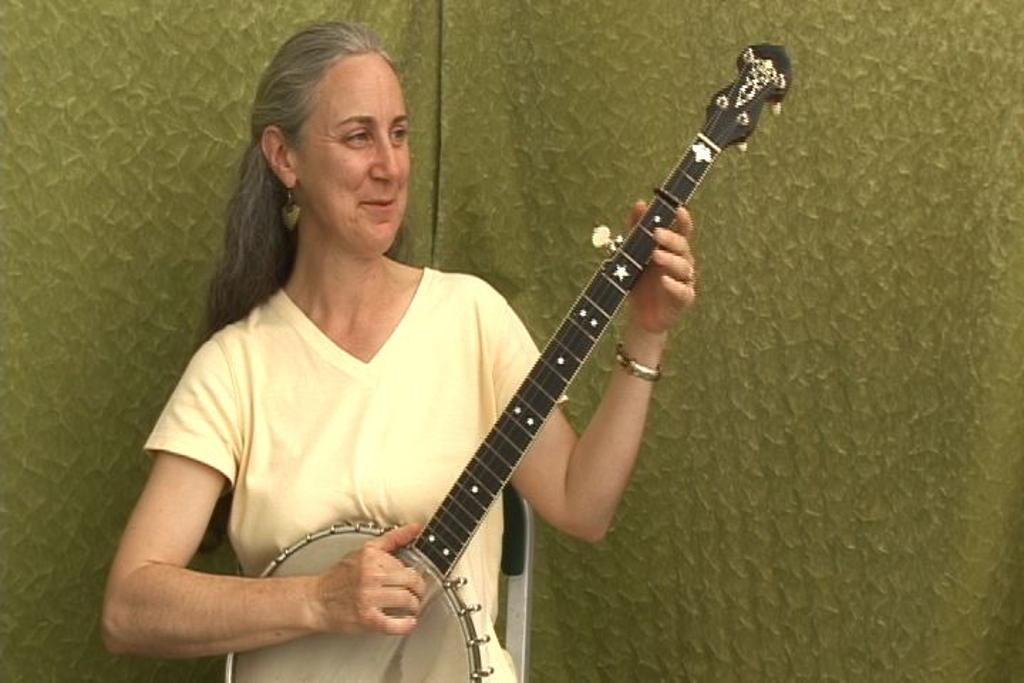face: (312, 68, 424, 244)
